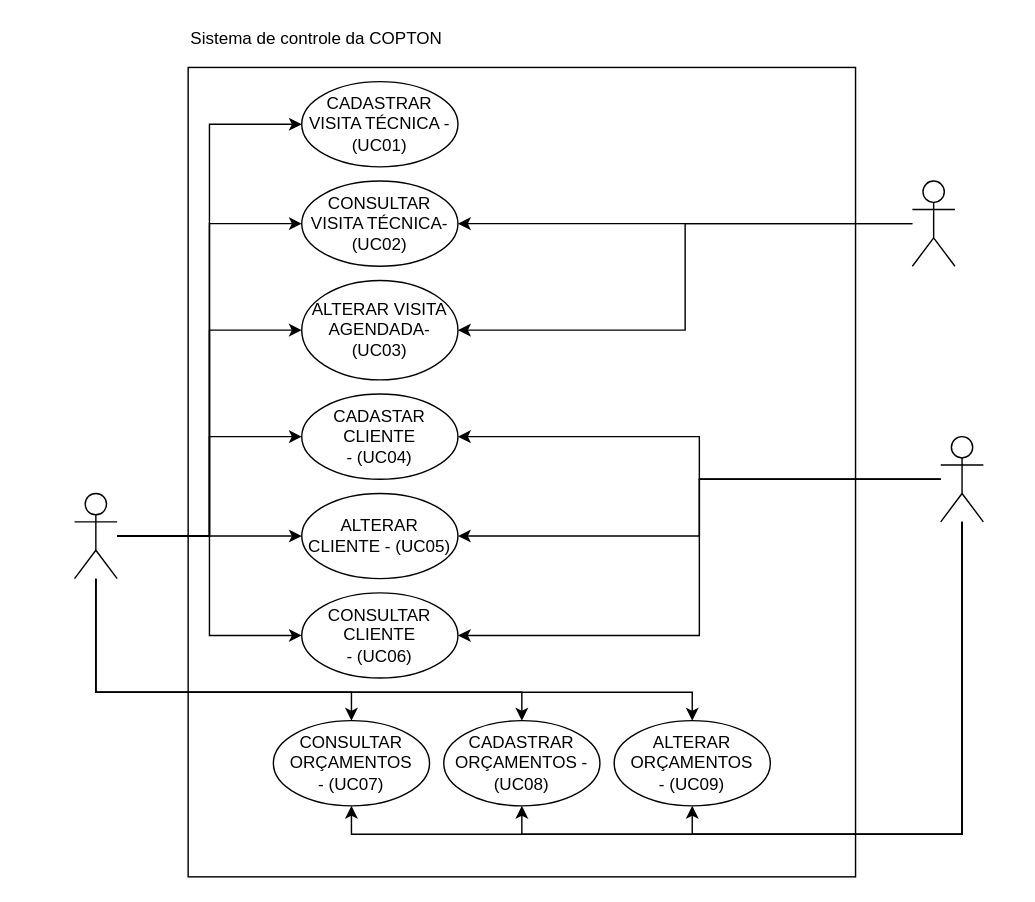
The diagram is 1035 pixels wide and 902 high, and some of its shapes have lost their labels. The box of each missing label's shape, as (x1, y1, x2, y2) in pixels:
ADMINISTRADOR: (73, 492, 117, 579)
TÉCNICO DE MANUTENÇÃO: (911, 180, 955, 266)
VENDEDOR: (939, 435, 983, 522)
